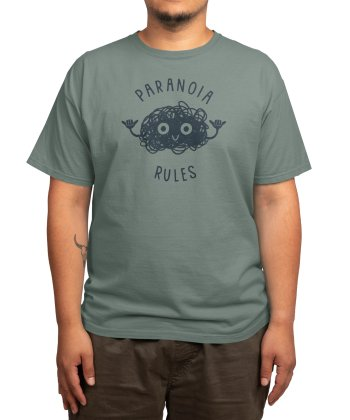design: (119, 73, 230, 187)
